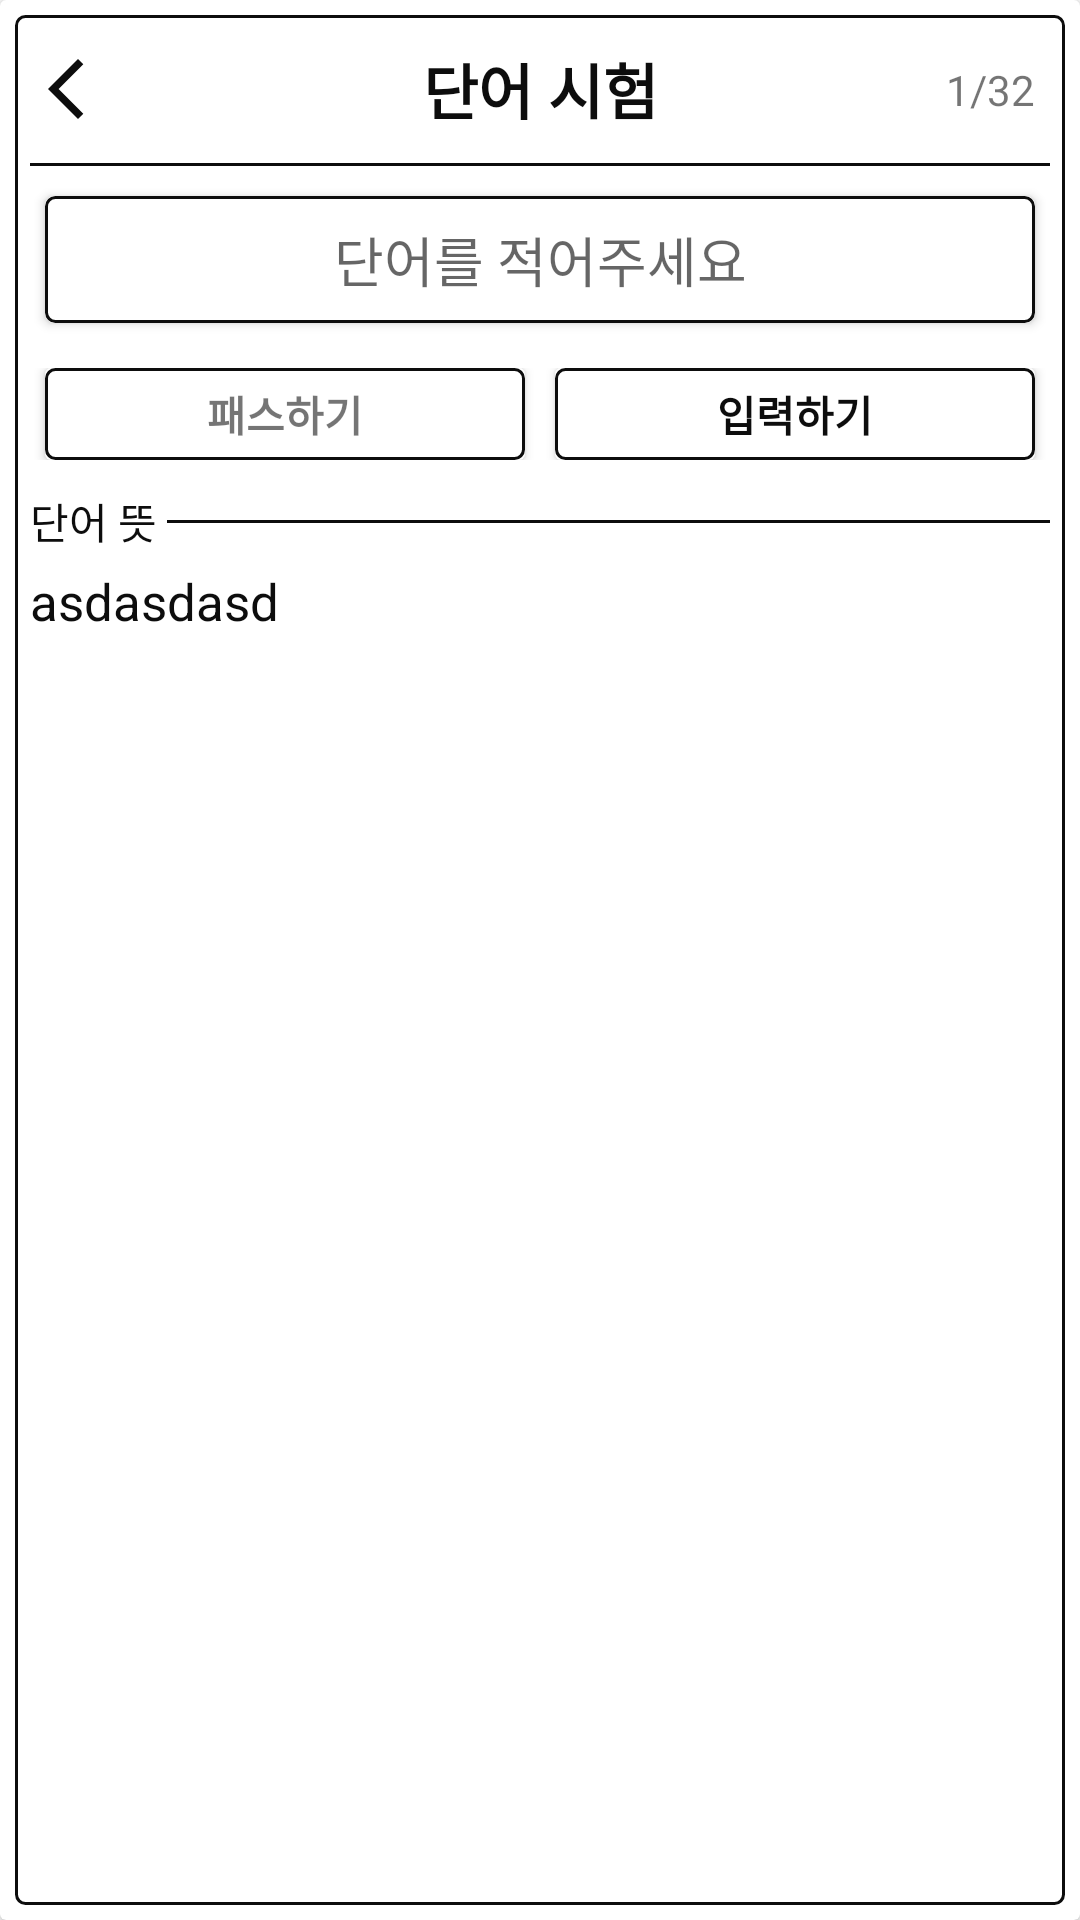

Point at icon controls on the screen. Image size 1080px×1920px, points as point (x, y).
arrow back: point (65, 89)
